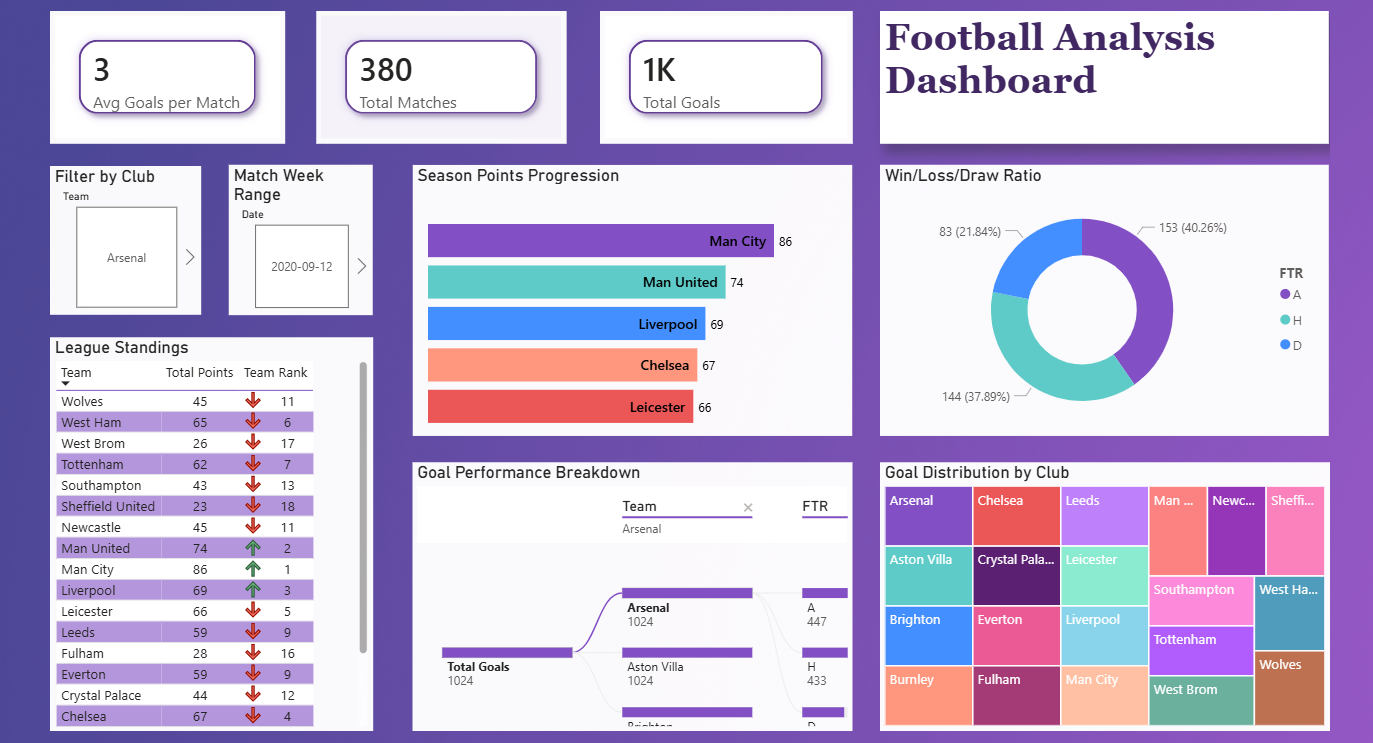

This screenshot's page, from the dashboard's own definition file:
{"tool":"powerbi","page":{"name":"Analysis Dashboard","canvas":[1280,720],"ordinal":0},"visuals":[{"type":"cardVisual","fields":{"Data":["AllMatches.Total Matches"]},"box":[266.2,0,250,132.5],"z":0},{"type":"tableEx","title":"League Standings","fields":{"Values":["AllMatches.Team","AllMatches.Total Points","AllMatches.Team Rank"]},"box":[0,325.7,322.9,394.3],"z":1000},{"type":"donutChart","title":"Win/Loss/Draw Ratio","fields":{"Category":["e0.FTR"],"Y":["AllMatches.Total Matches"]},"box":[830,154.3,448.6,271.4],"z":2000},{"type":"slicer","title":"Filter by Club ","fields":{"Values":["AllMatches.Team"]},"box":[0,155,151.2,148.8],"z":3000},{"type":"slicer","title":"Match Week Range","fields":{"Values":["e0.Date"]},"box":[178.6,154.3,144.3,150],"z":4000},{"type":"cardVisual","fields":{"Data":["AllMatches.Total Goals"]},"box":[550,0,252.5,132.5],"z":5000},{"type":"cardVisual","fields":{"Data":["AllMatches.Avg Goals per Match"]},"box":[0,0,235,132.5],"z":6000},{"type":"textbox","box":[830,0,448.8,132.5],"z":7000},{"type":"decompositionTreeVisual","title":"Goal Performance Breakdown","fields":{"ExplainBy":["AllMatches.Team","e0.FTR","e0.Date"],"Analyze":["AllMatches.Total Goals"]},"box":[362.5,451.2,440,268.8],"z":8000},{"type":"wishyoulizationbarchartrace","title":"Season Points Progression","fields":{"name":["AllMatches.Team"],"value":["AllMatches.Cumulative Points"],"year":["e0.Date"]},"box":[362.9,154.3,440,271.4],"z":9000},{"type":"treemap","title":"Goal Distribution by Club","fields":{"Group":["AllMatches.Team"],"Values":["AllMatches.Team Goals"]},"box":[830,451.4,450,268.6],"z":10000}]}

Visuals, with their boxes in screenshot pixels (x1, y1, x2, y2):
cardVisual - AllMatches.Total Matches: Rect(310, 4, 565, 139)
"League Standings" tableEx: Rect(39, 335, 368, 737)
"Win/Loss/Draw Ratio" donutChart: Rect(885, 161, 1342, 437)
"Filter by Club " slicer: Rect(39, 161, 193, 313)
"Match Week Range" slicer: Rect(221, 161, 368, 314)
cardVisual - AllMatches.Total Goals: Rect(600, 4, 857, 139)
cardVisual - AllMatches.Avg Goals per Match: Rect(39, 4, 279, 139)
textbox: Rect(885, 4, 1342, 139)
"Goal Performance Breakdown" decompositionTreeVisual: Rect(409, 463, 857, 737)
"Season Points Progression" wishyoulizationbarchartrace: Rect(409, 161, 857, 437)
"Goal Distribution by Club" treemap: Rect(885, 463, 1343, 737)
